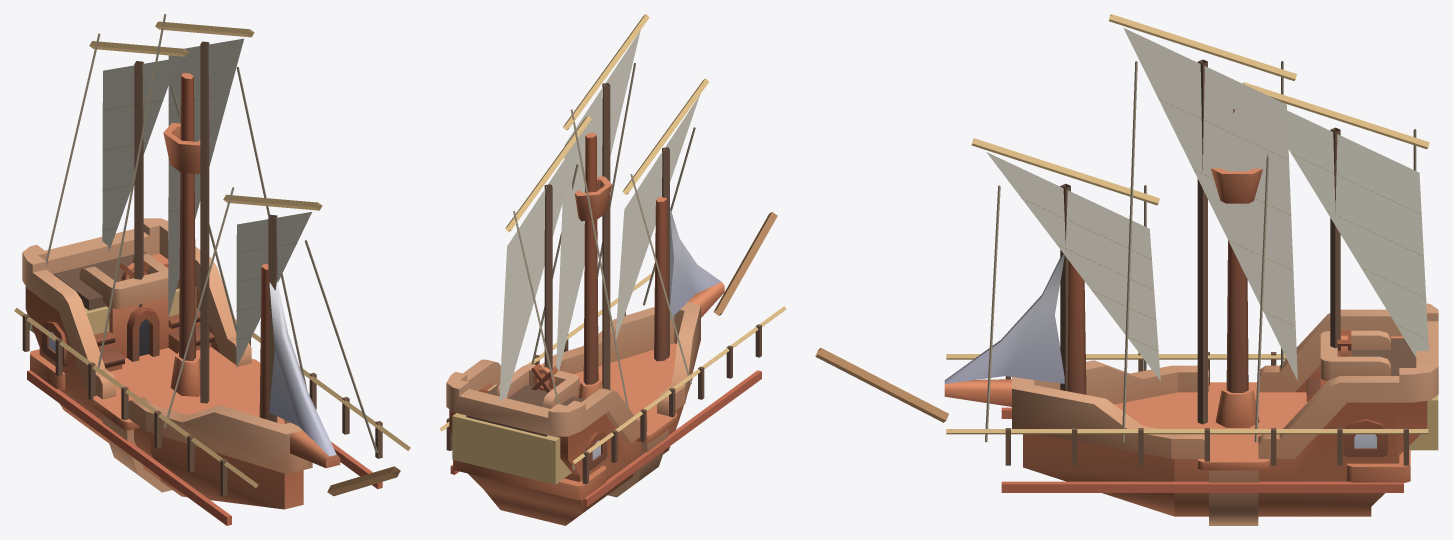
The model's file is caravel-custom.glb.
3 views of the same model, side by side, from view 1: azimuth 30°, elevation 25°; view 2: azimuth 150°, elevation 25°; view 3: azimuth 270°, elevation 25° (orthographic). The views are drawn at different scales.
Parts seen in each view (by area): view 1: ship-small, caravel cloth, caravel dark, caravel pale, caravel rope, caravel red, caravel wood; view 2: ship-small, caravel cloth, caravel pale, caravel dark, caravel rope, caravel red, caravel wood; view 3: ship-small, caravel cloth, caravel pale, caravel dark, caravel red, caravel rope, caravel wood.
Part boxes in pixels (x1=…): ship-small: x1=22, y1=73, x2=340, y2=509; caravel cloth: x1=102, y1=38, x2=311, y2=367; caravel dark: x1=22, y1=41, x2=382, y2=496; caravel pale: x1=14, y1=21, x2=410, y2=487; caravel rope: x1=30, y1=14, x2=377, y2=453; caravel red: x1=27, y1=370, x2=382, y2=525; caravel wood: x1=327, y1=466, x2=400, y2=496; ship-small: x1=446, y1=132, x2=724, y2=525; caravel cloth: x1=499, y1=30, x2=699, y2=401; caravel pale: x1=439, y1=14, x2=786, y2=484; caravel dark: x1=446, y1=83, x2=761, y2=484; caravel rope: x1=499, y1=63, x2=695, y2=470; caravel red: x1=450, y1=370, x2=761, y2=506; caravel wood: x1=713, y1=212, x2=777, y2=315; ship-small: x1=944, y1=109, x2=1438, y2=525; caravel cloth: x1=986, y1=28, x2=1428, y2=380; caravel pale: x1=946, y1=14, x2=1438, y2=450; caravel dark: x1=1005, y1=59, x2=1416, y2=465; caravel red: x1=1001, y1=407, x2=1403, y2=492; caravel rope: x1=985, y1=61, x2=1428, y2=442; caravel wood: x1=815, y1=348, x2=948, y2=422.
Size of the model in its own units: 4.27 by 12.29 by 14.1.
Materials: 7 (1 with a texture image).
